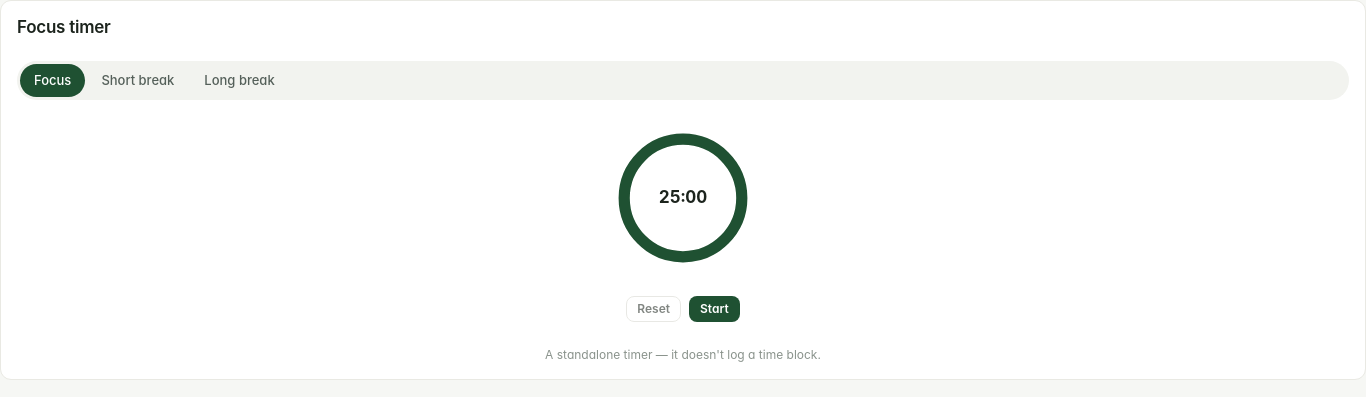
PomodoroCard › switching preset resets to that preset's full duration
Step 1. Click the radio button labelled "Short break" → coordinates (138, 80), box [87,64,188,96]
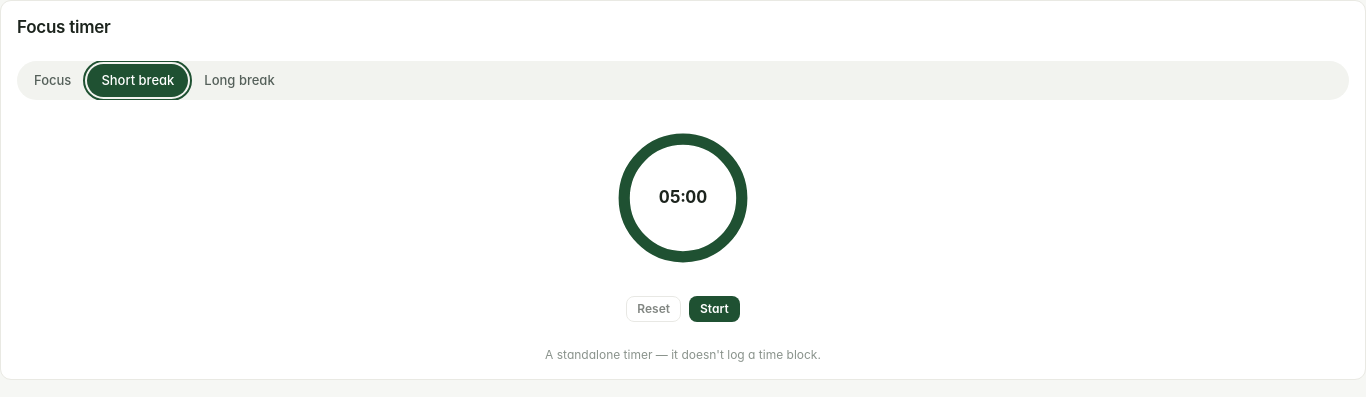
Expected: the text "05:00" is shown, [659,184,707,211]
